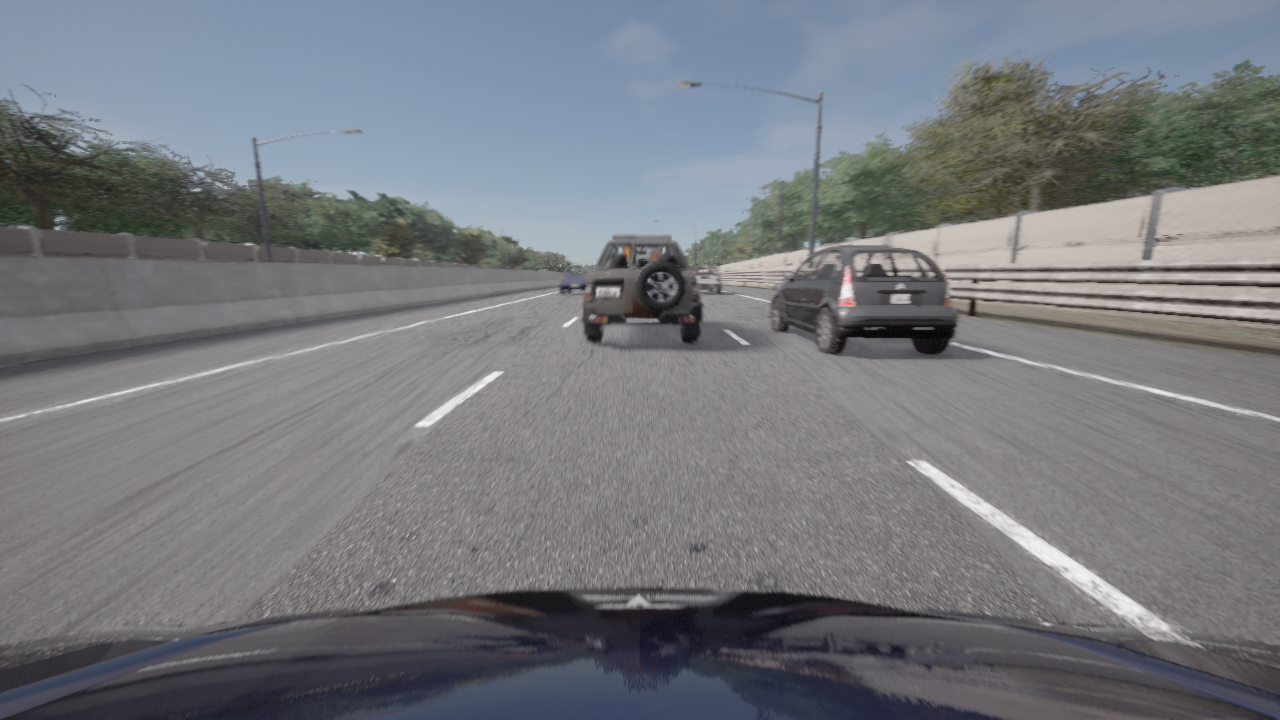cyclist: (0, 588, 1279, 719), (769, 246, 958, 354), (582, 235, 702, 342), (691, 265, 721, 293), (560, 267, 590, 294)
